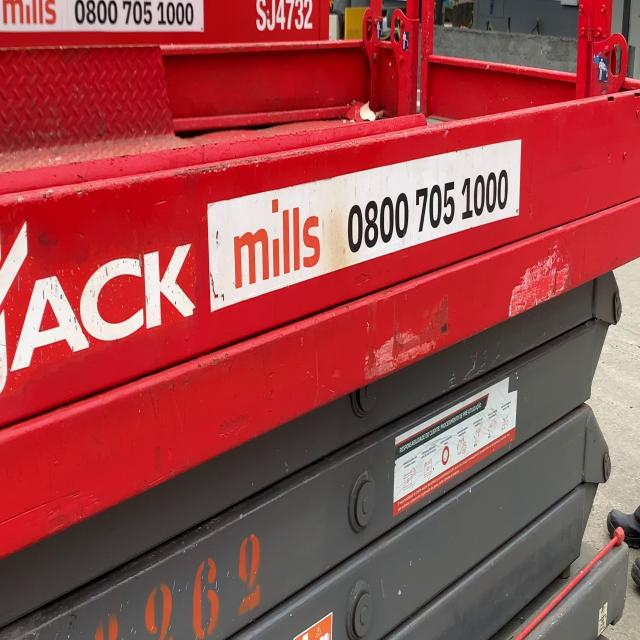Adesivo Longo: (204, 133, 523, 320)
